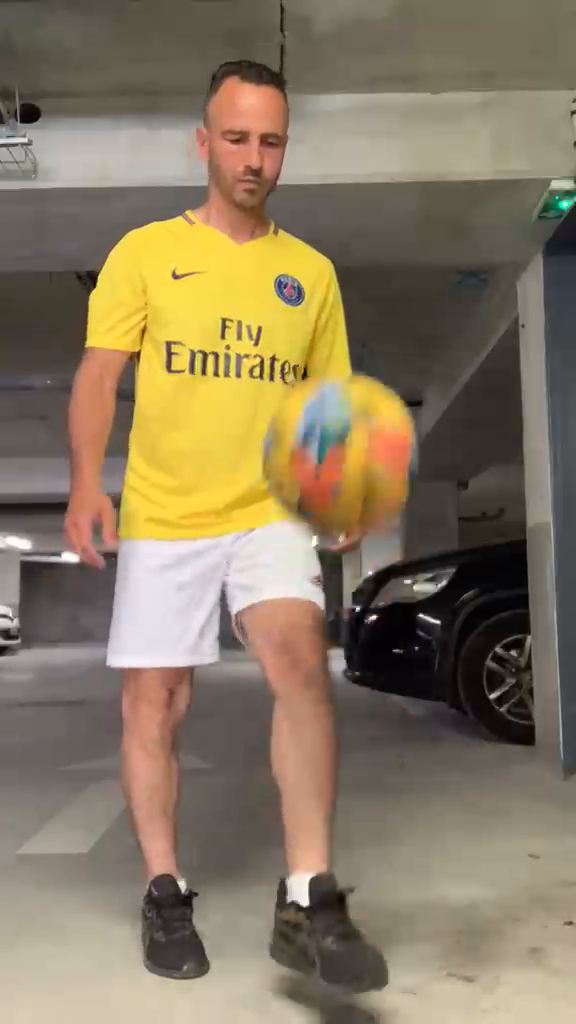ball: (257, 374, 418, 535)
